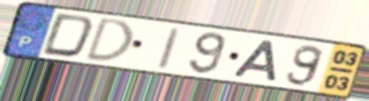9: (187, 32, 227, 76), (284, 44, 323, 87)
A: (230, 39, 279, 84)
D: (38, 12, 97, 59), (82, 16, 136, 64)
I: (155, 26, 183, 72)
